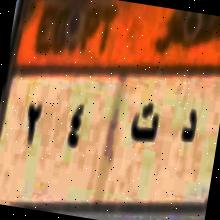2: (21, 93, 44, 152)
4: (63, 100, 86, 157)
daal: (175, 101, 201, 154)
taa: (124, 96, 162, 152)
